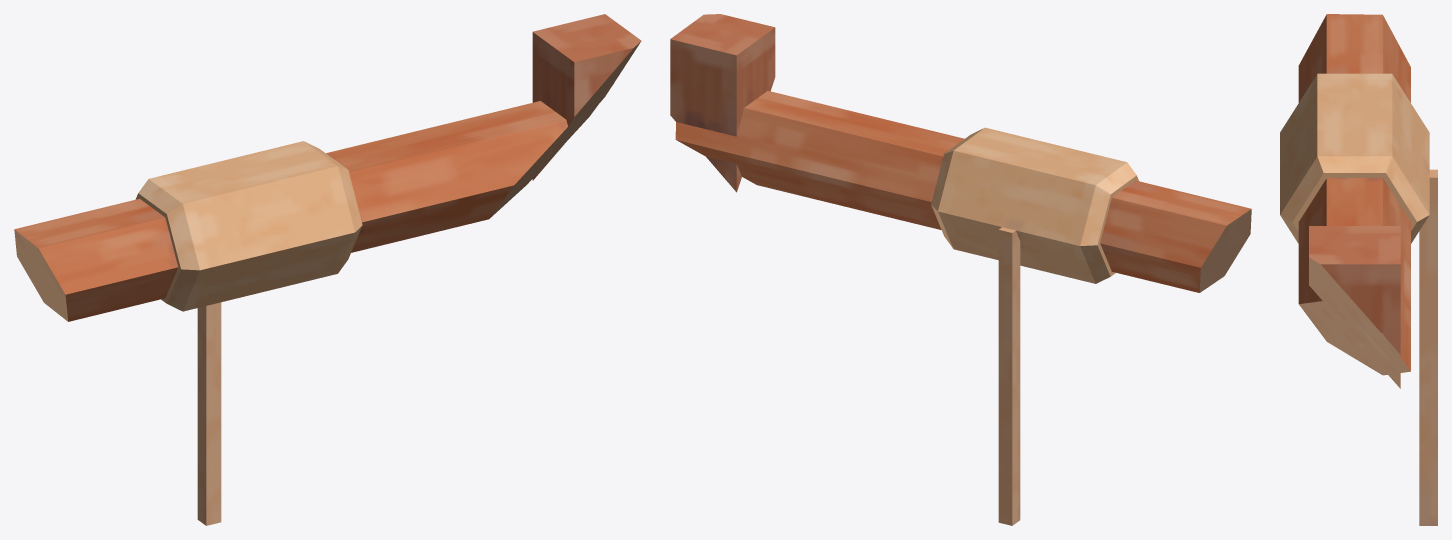
The model's file is well_s08.fbx.
3 views of the same model, side by side, from view 1: azimuth 30°, elevation 25°; view 2: azimuth 150°, elevation 25°; view 3: azimuth 270°, elevation 25° (orthographic). The views are drawn at different scales.
Parts seen in each view (by area): view 1: well_s08; view 2: well_s08; view 3: well_s08.
Part boxes in pixels (x1,y1,x2,y2): well_s08: [14, 14, 641, 525]; well_s08: [670, 14, 1251, 525]; well_s08: [1280, 14, 1437, 525].
Bounding box in the file's own units: 3.65 × 2.45 × 0.76.
